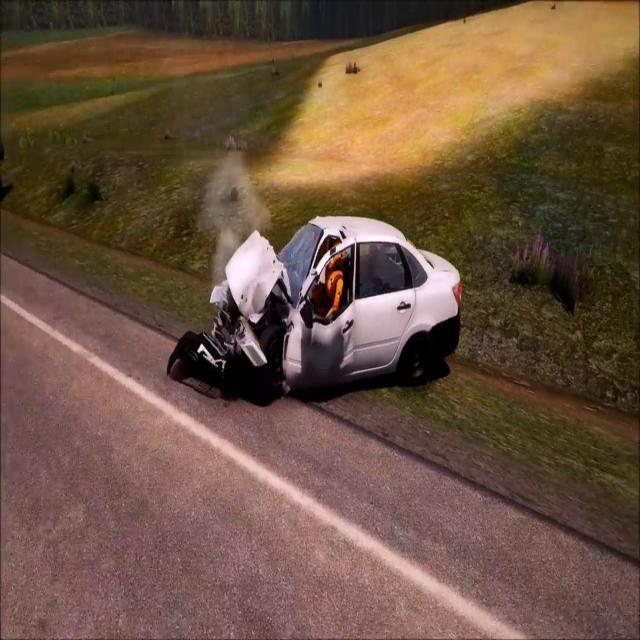severe: (166, 205, 466, 412)
